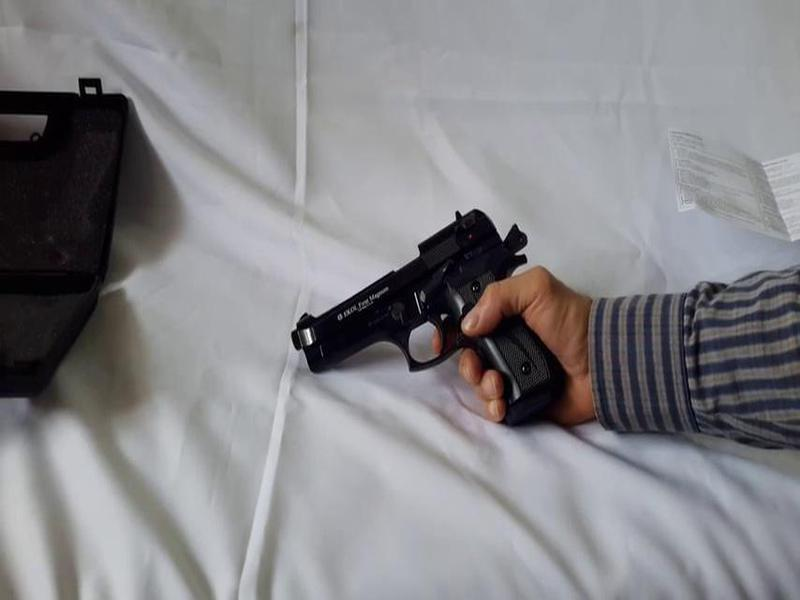Pistola: (276, 208, 552, 435)
